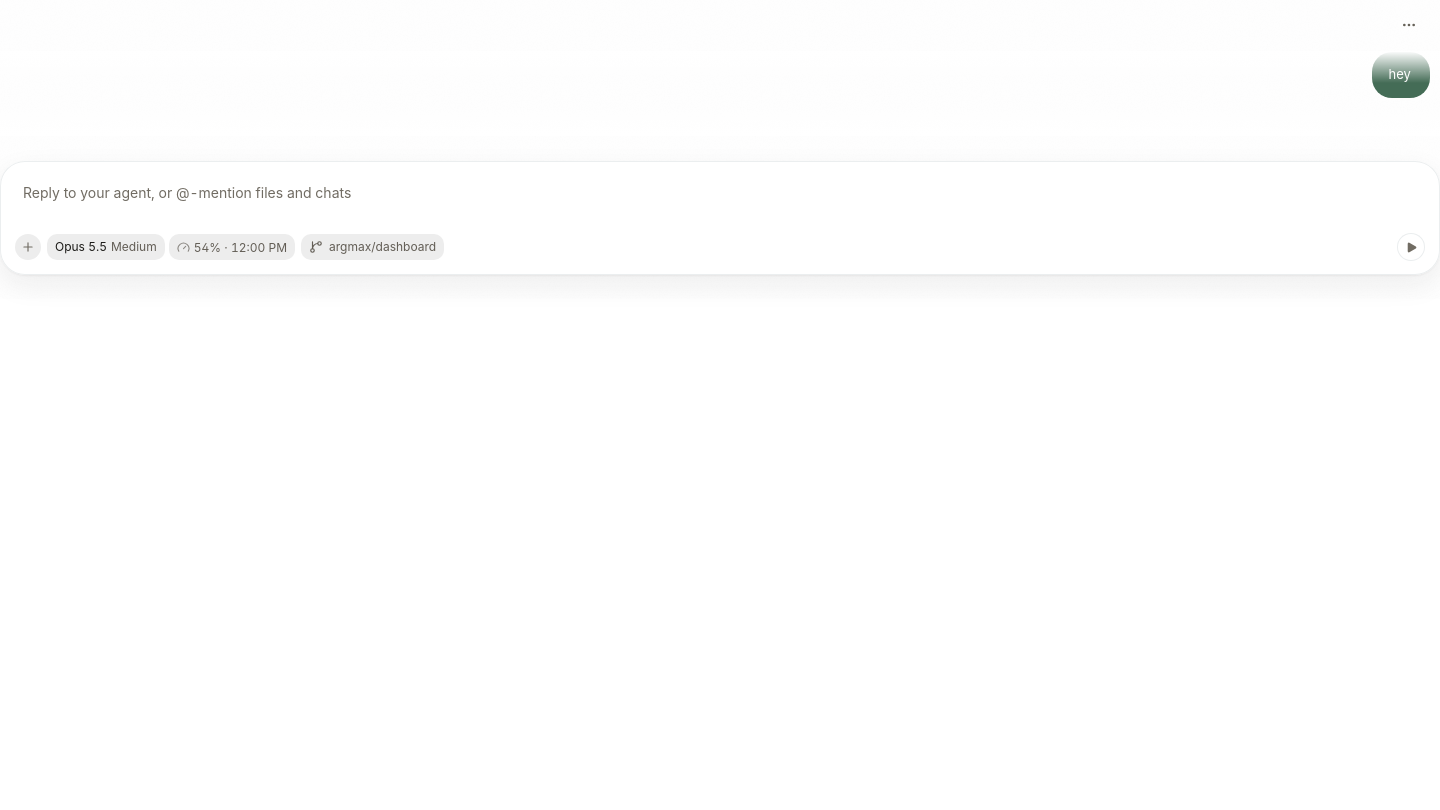
it: SessionConversation — streaming & composer › holds Thinking through a relaunch sent from a failed session
Type "keep going" into the text box at x=720, y=200, box [15,174,1425,226]
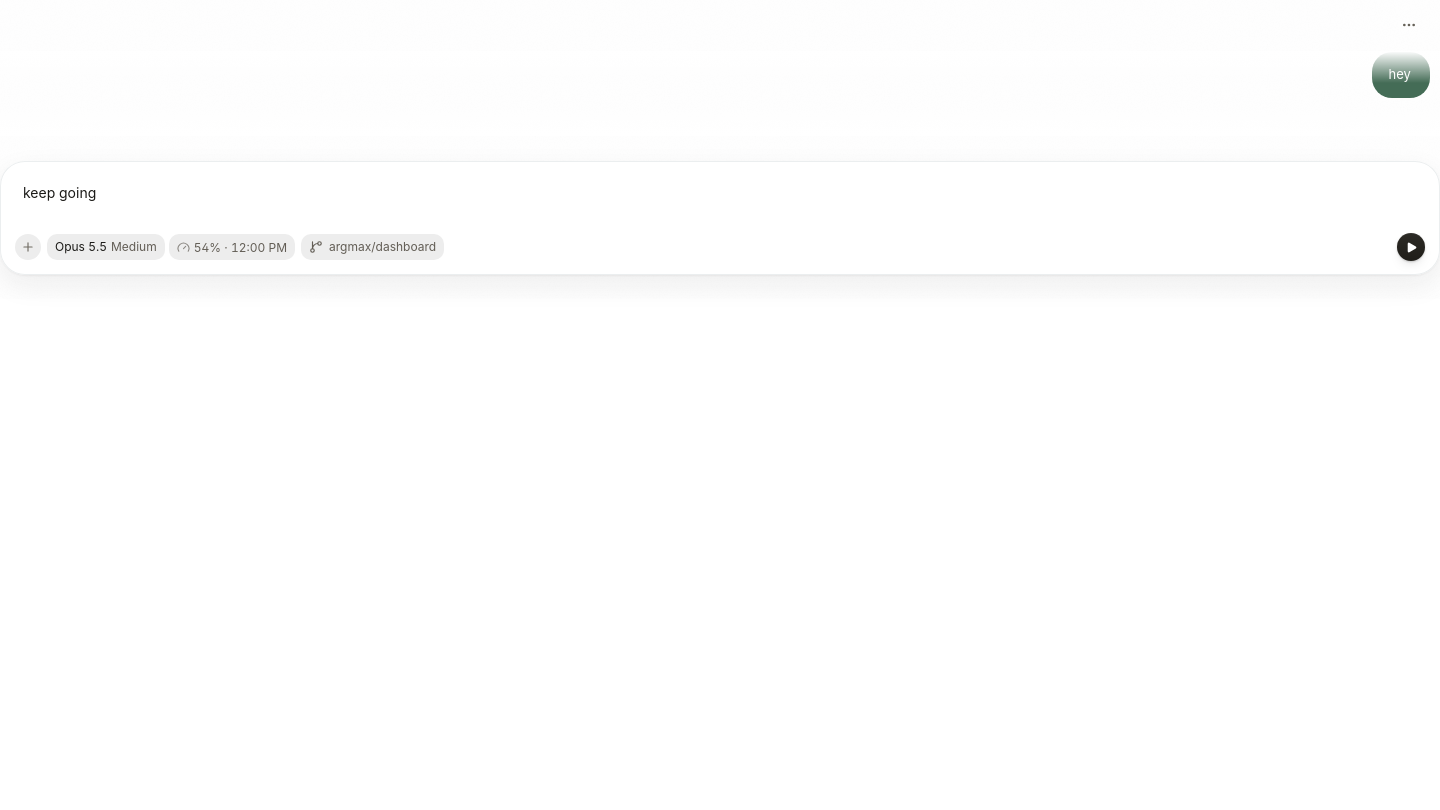
Press Enter in the text box, box [15,174,1425,226]
Wait 900 ms
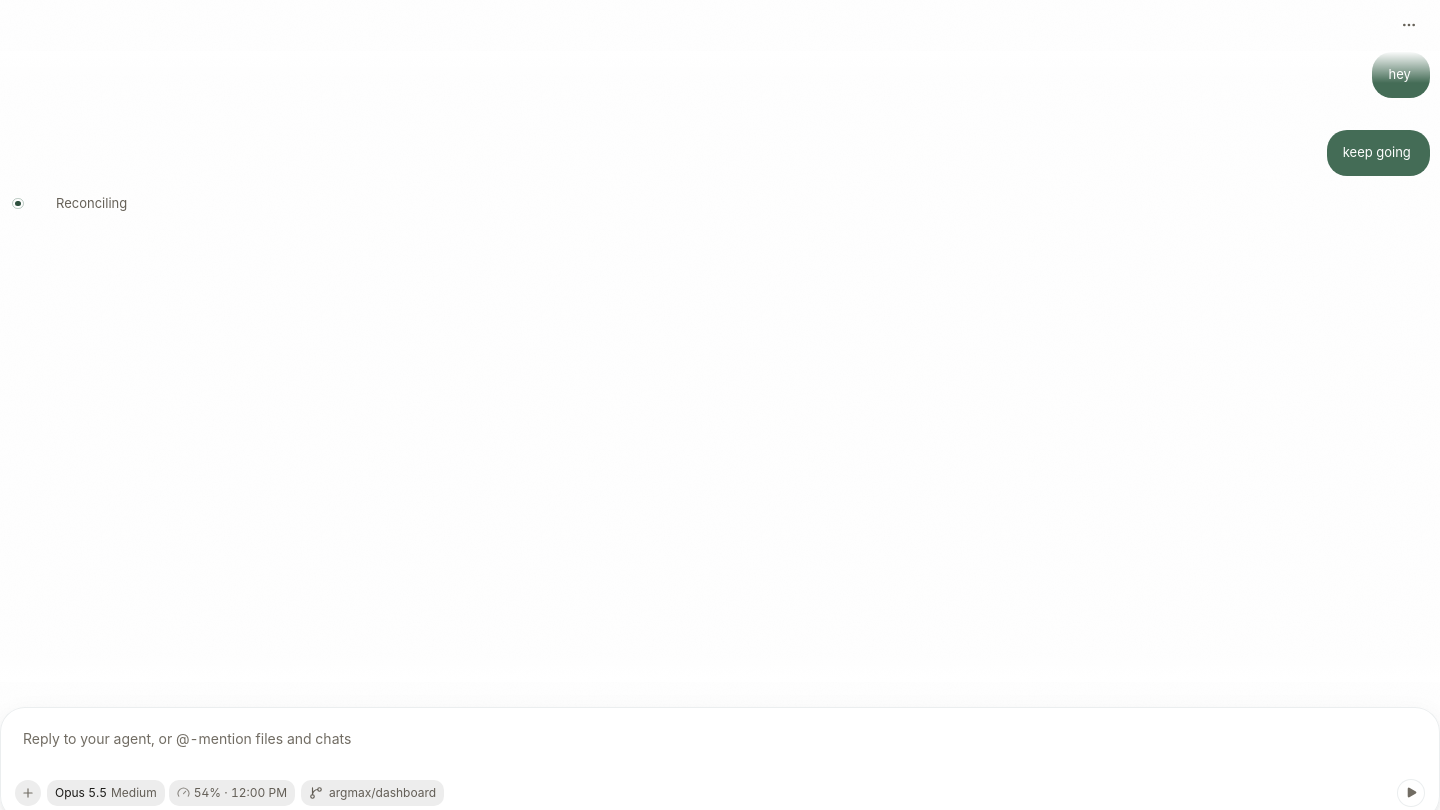
Expected: the element named "Thinking" is shown, [12,195,127,211]
